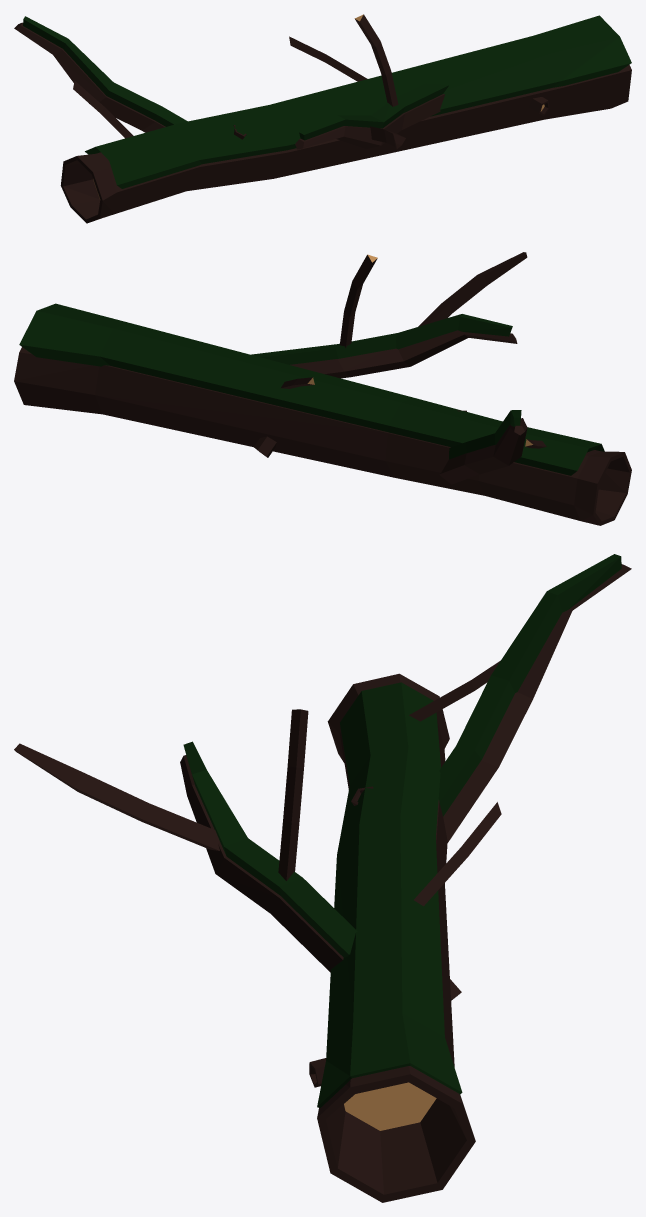
The model's file is SM_trunk_dead_moss_01.FBX.
3 renders of one model, top to bottom at view 1: azimuth 30°, elevation 25°; view 2: azimuth 150°, elevation 25°; view 3: azimuth 270°, elevation 25°, orthographic. The views are drawn at different scales.
Parts seen in each view (by area): view 1: Object056; view 2: Object056; view 3: Object056.
Boxes of the visible parts, x1,y1,x2,y2 form: Object056: (14, 14, 631, 223); Object056: (14, 252, 631, 525); Object056: (14, 554, 631, 1202).
Size of the model in its own units: 302 by 98.07 by 194.
